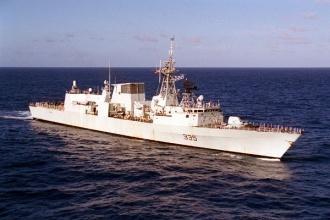warship: (29, 42, 308, 163)
